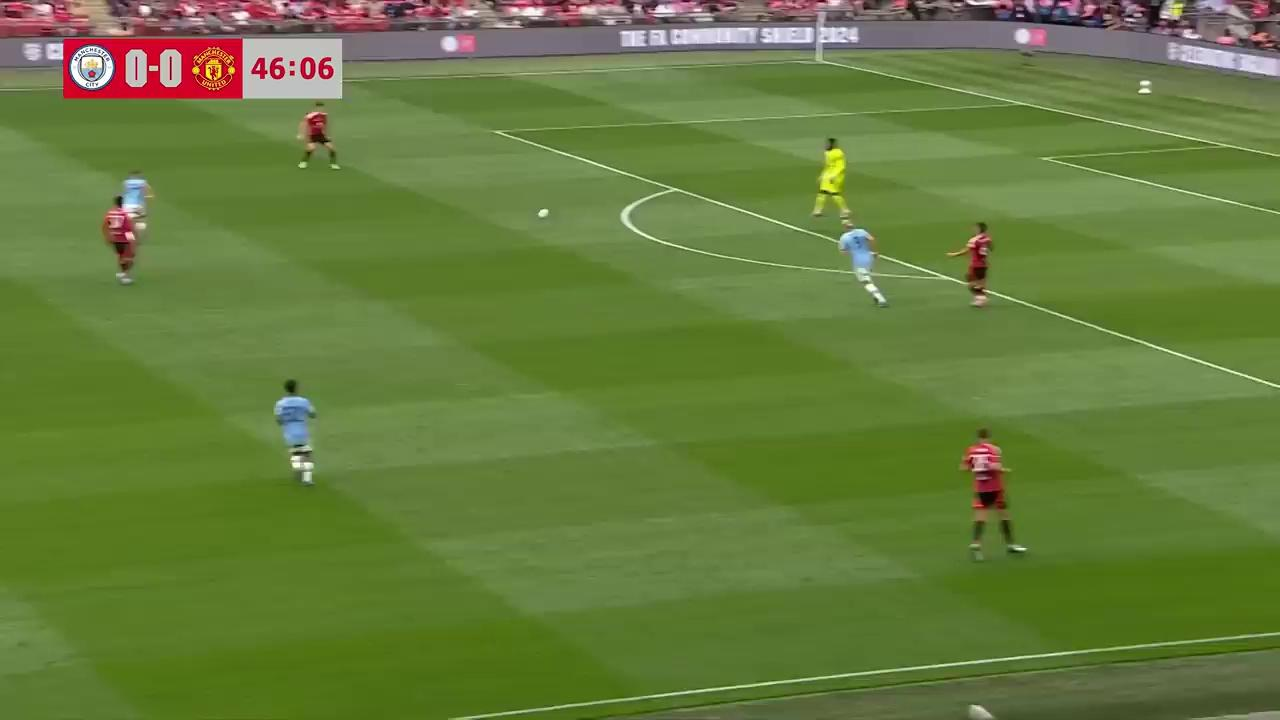ball: (534, 204, 551, 221)
player: (959, 427, 1025, 561), (274, 378, 317, 486), (838, 219, 889, 306), (945, 222, 992, 306), (810, 137, 851, 221), (101, 196, 137, 285), (296, 102, 340, 170), (118, 169, 155, 233)
